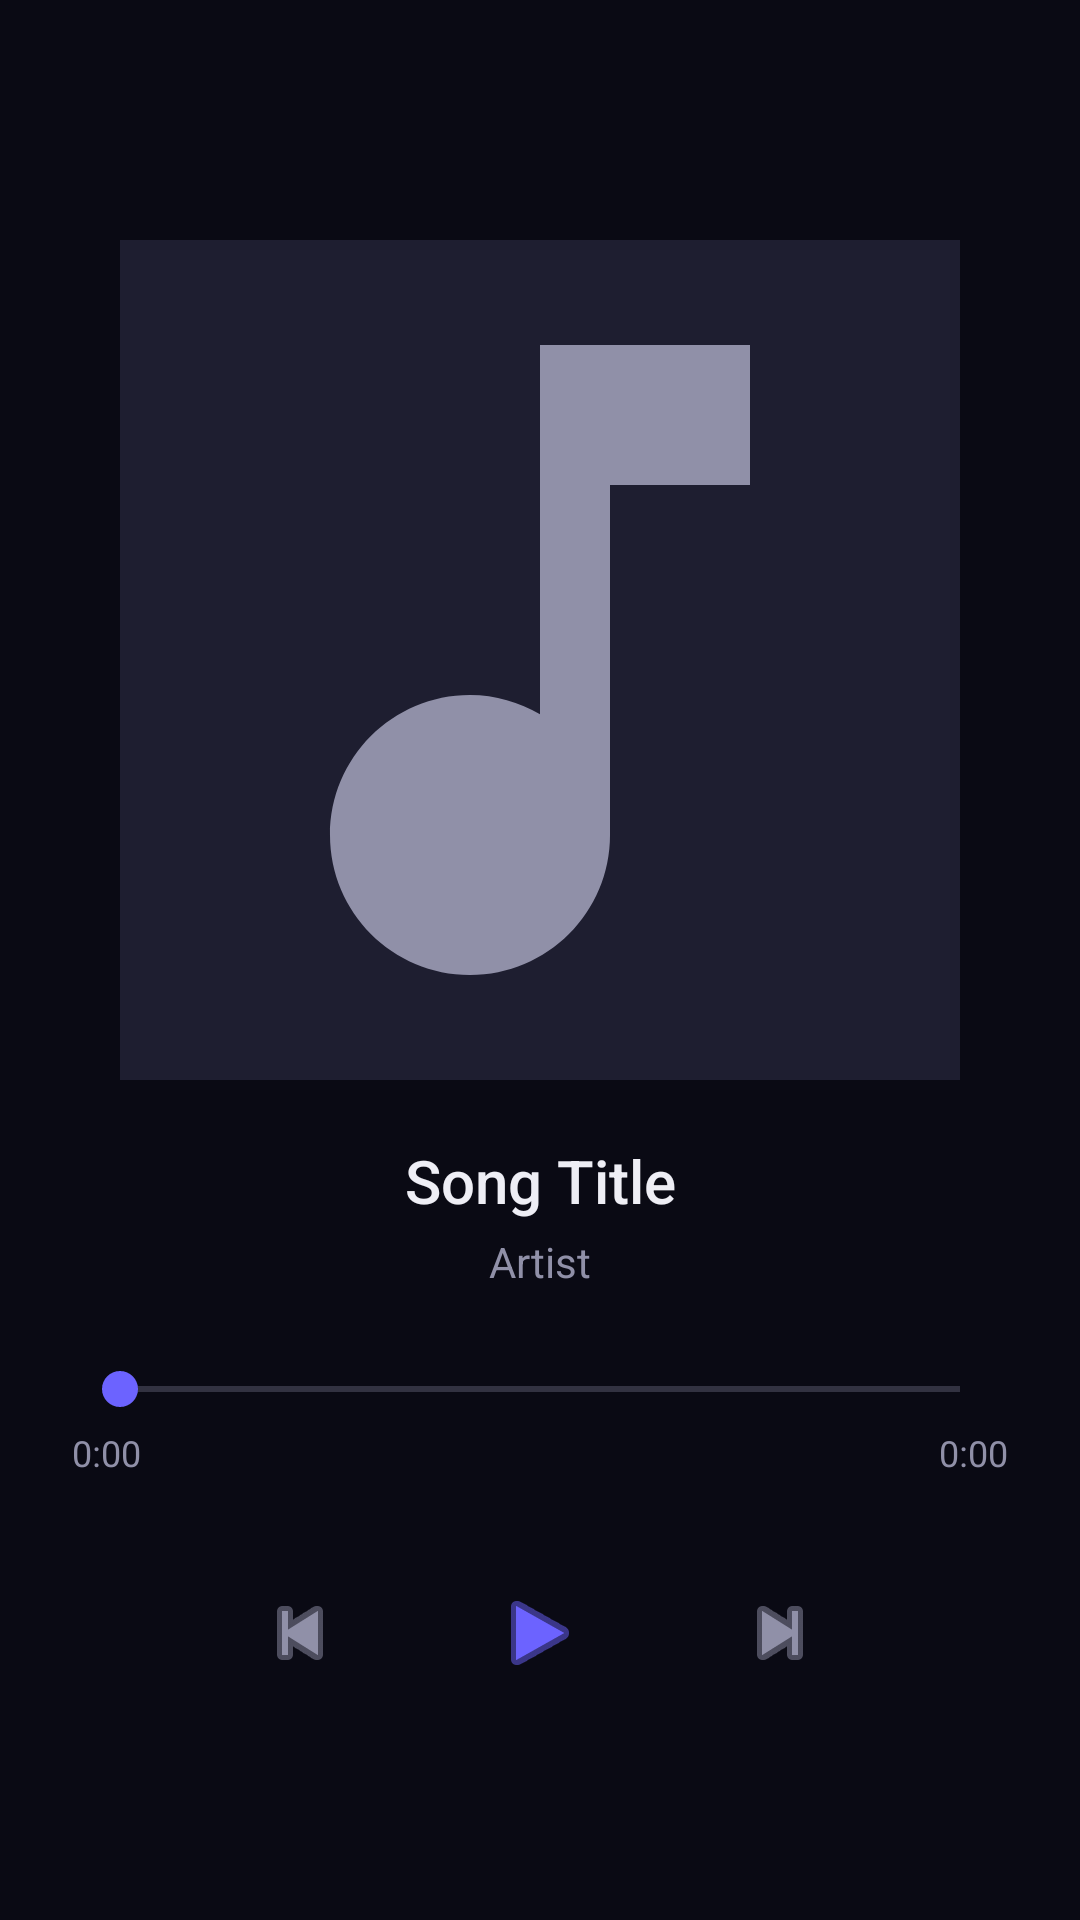

Named icons in this screenshot (1080px x 1920px) and their centers, (x,y):
next: (780,1633)
play: (540,1633)
previous: (300,1633)
